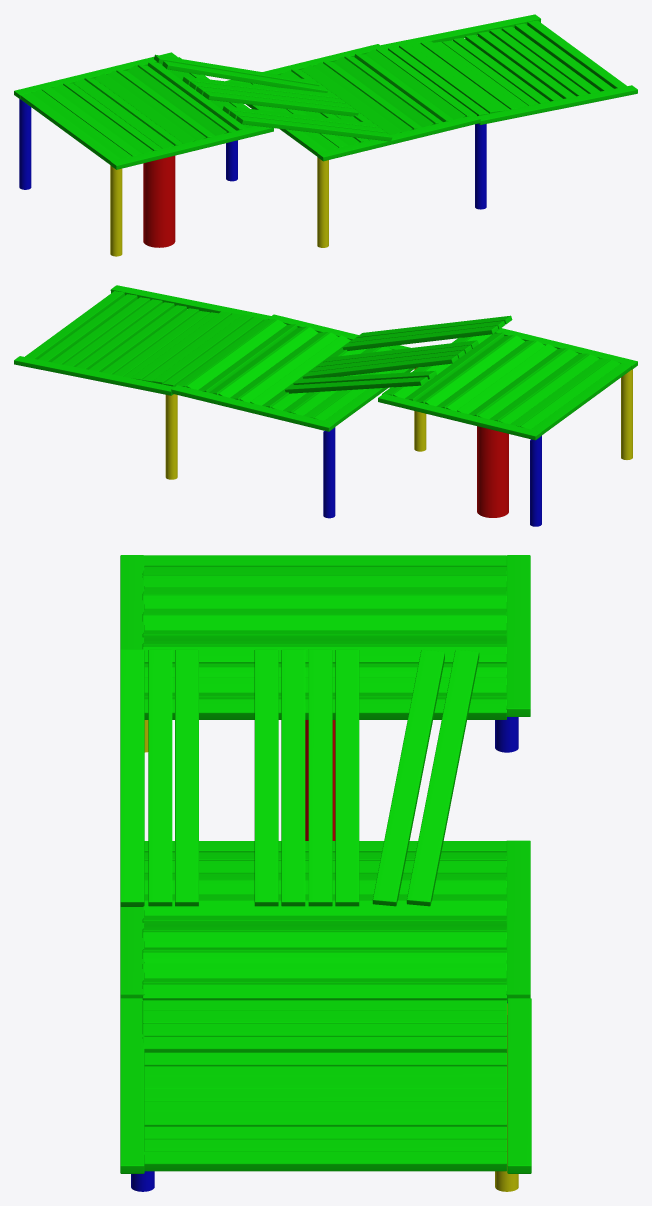
The model's file is Dock.fbx.
The picture shows the model from 3 angles, top to bottom: view 1: azimuth 30°, elevation 25°; view 2: azimuth 150°, elevation 25°; view 3: azimuth 270°, elevation 25°; orthographic projection. The views are drawn at different scales.
Parts seen in each view (by area): view 1: Dock; view 2: Dock; view 3: Dock.
Boxes of the visible parts, x1=… form: Dock: x1=14, y1=14, x2=637, y2=256; Dock: x1=14, y1=285, x2=637, y2=526; Dock: x1=120, y1=555, x2=531, y2=1191.
Size of the model in its own units: 13.23 by 3.64 by 4.52.
